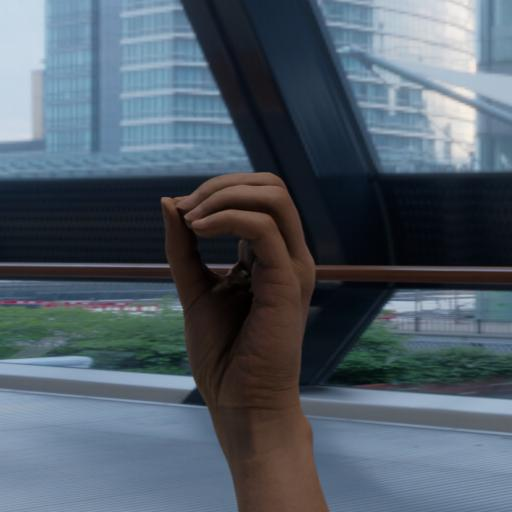O: (130, 166, 349, 512)
